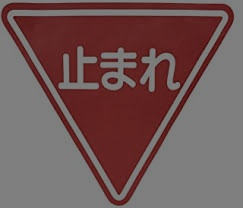Regulatory_sign_triangle: (3, 1, 237, 203)
